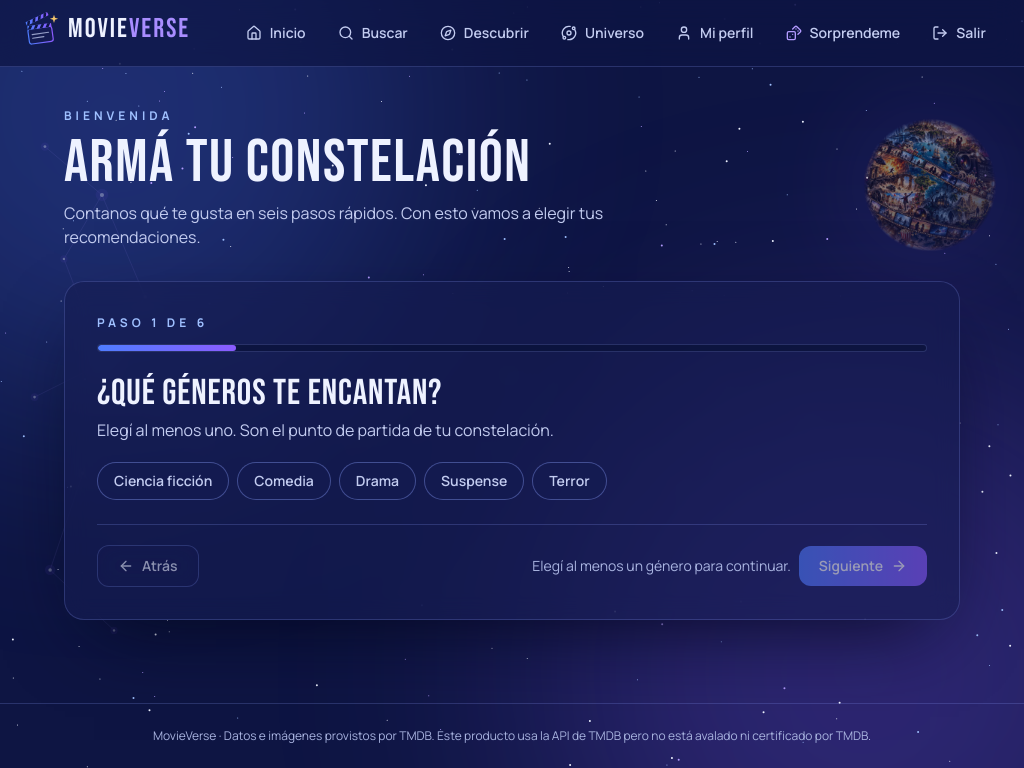
Scenario: OnboardingWizard › choosing a disliked genre as favorite removes it from the avoid list
Click the button "Drama".
click(377, 481)  # box [339,462,416,500]
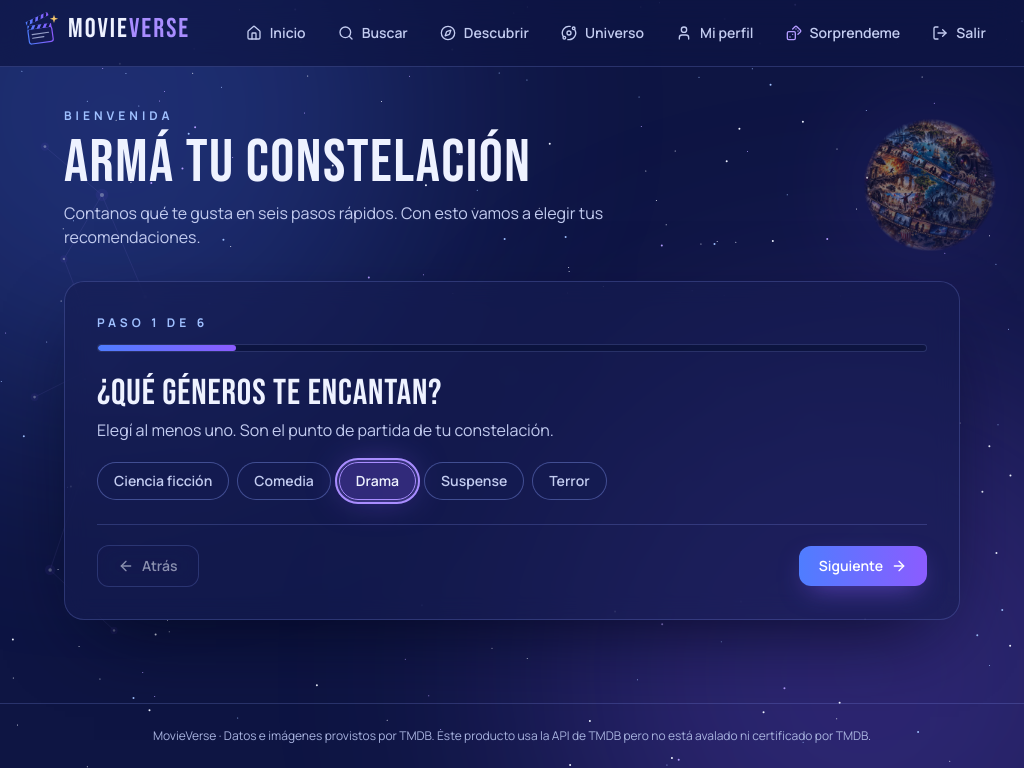
Click the button "Siguiente".
click(863, 566)  # box [799,546,927,586]
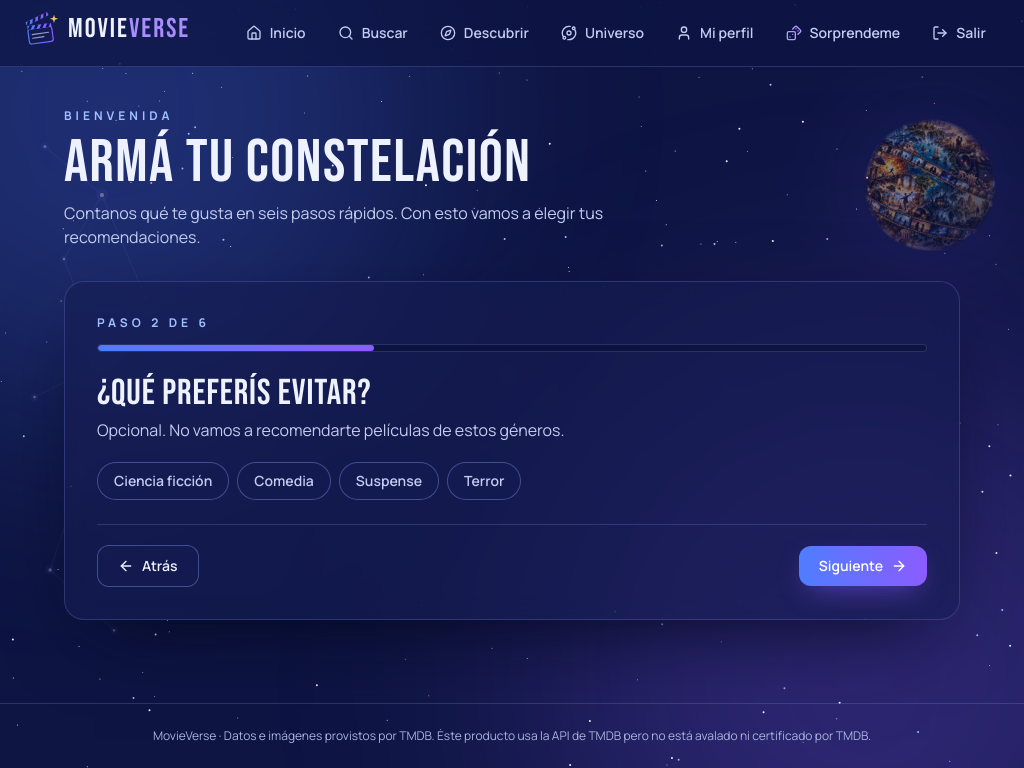
Click the button "Comedia".
click(284, 481)  # box [237,462,331,500]
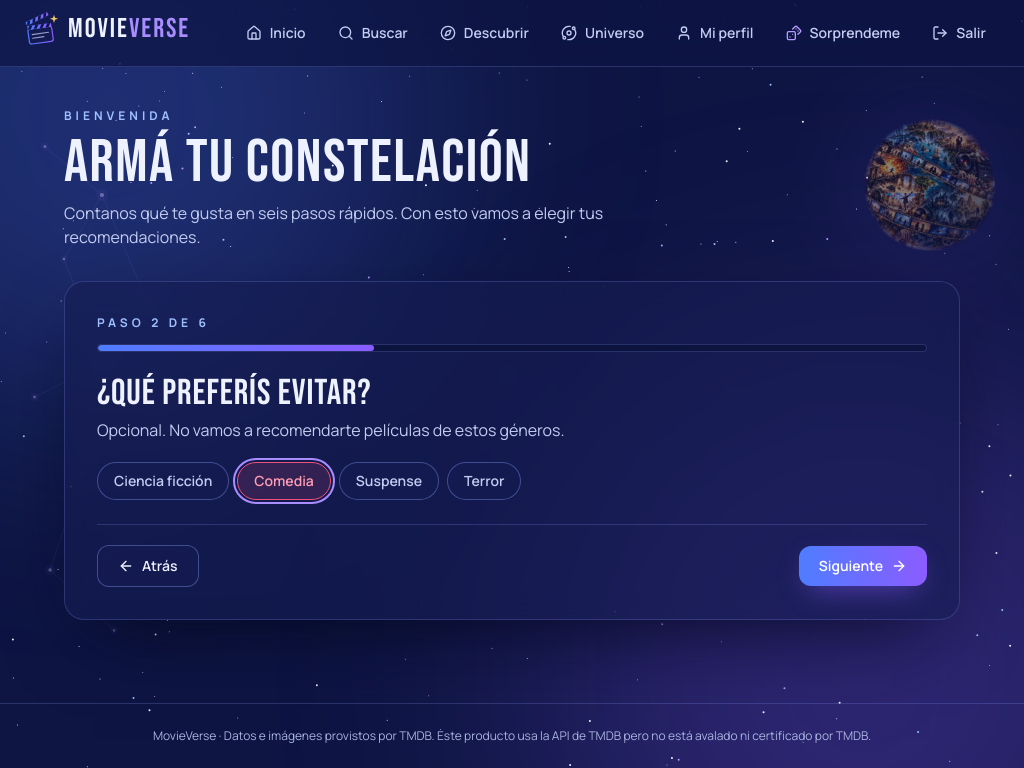
Click the button "Atrás".
click(148, 566)  # box [97,545,198,587]
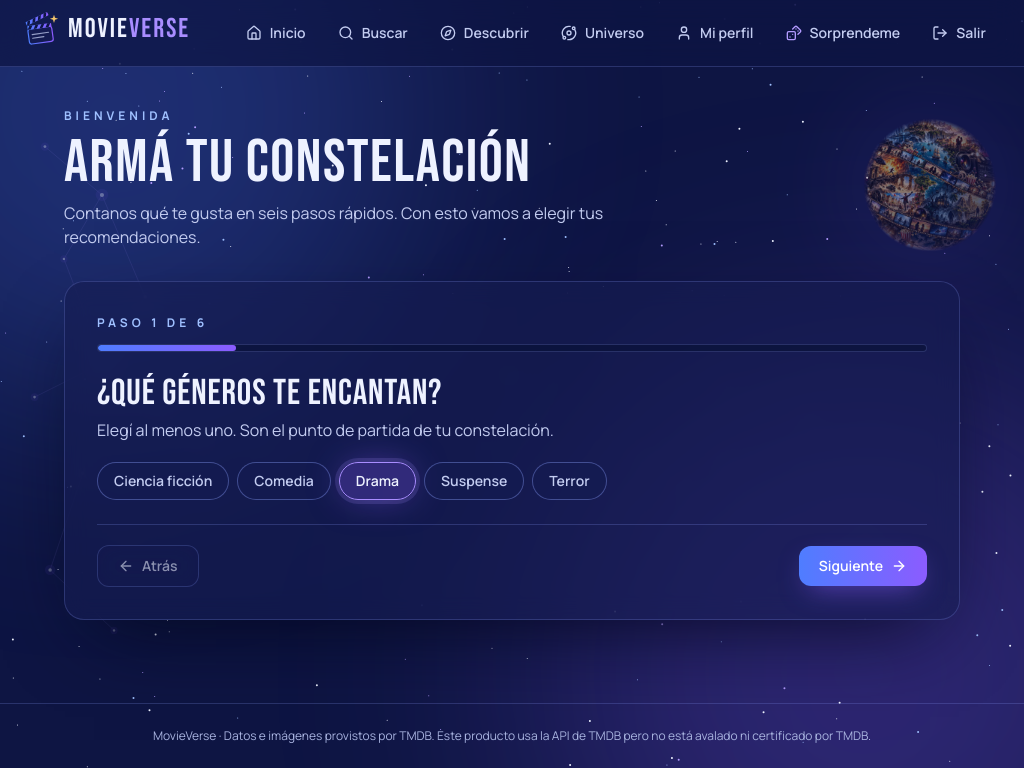
Click the button "Comedia".
click(284, 481)  # box [237,462,331,500]
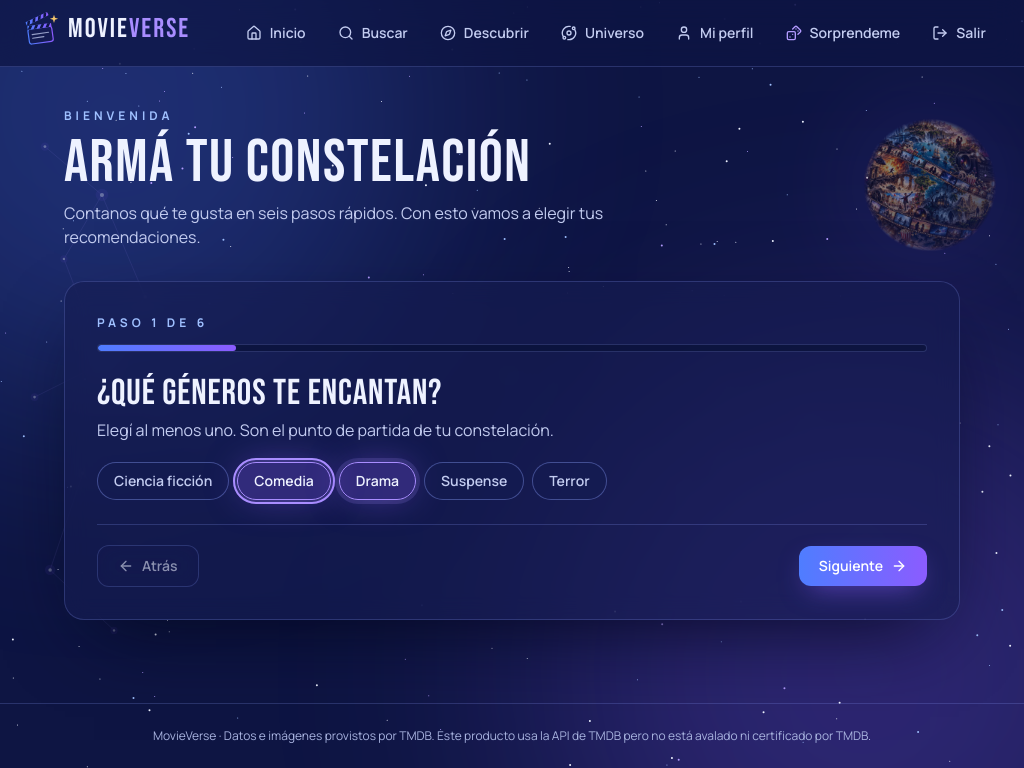
Click the button "Siguiente".
click(863, 566)  # box [799,546,927,586]
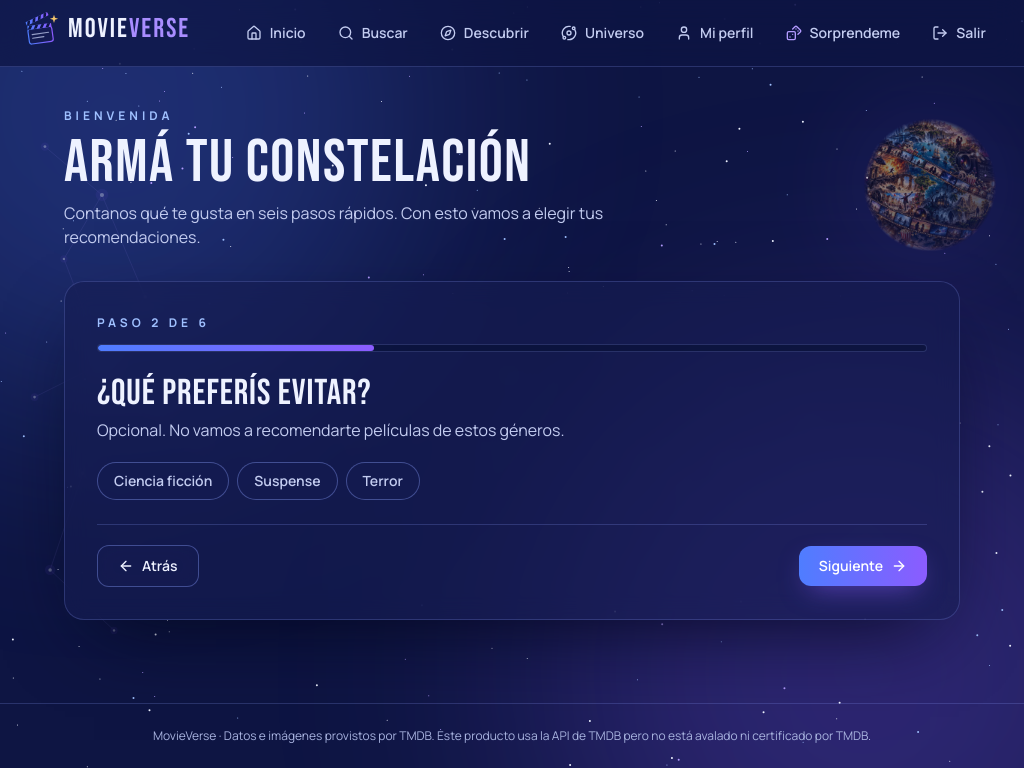
Expected: the button "Comedia" is gone
